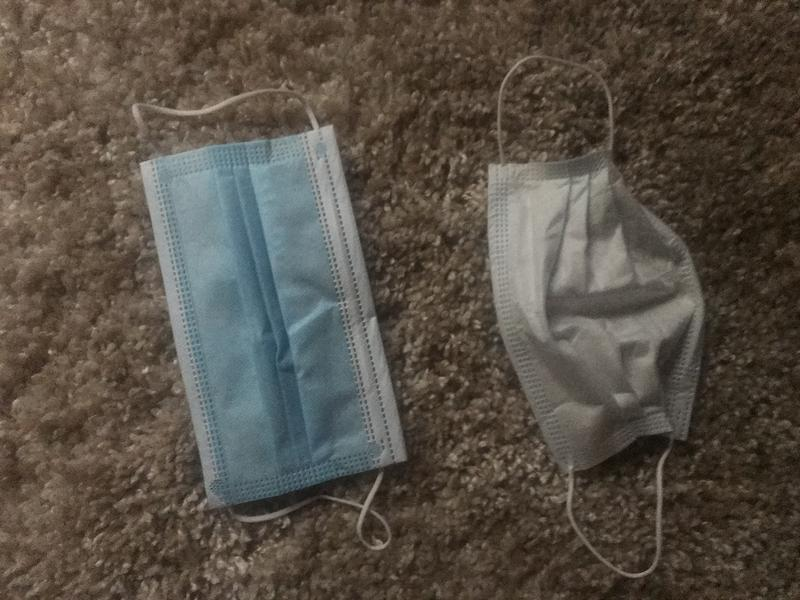medical_mask: (132, 87, 405, 553), (486, 53, 701, 579)
